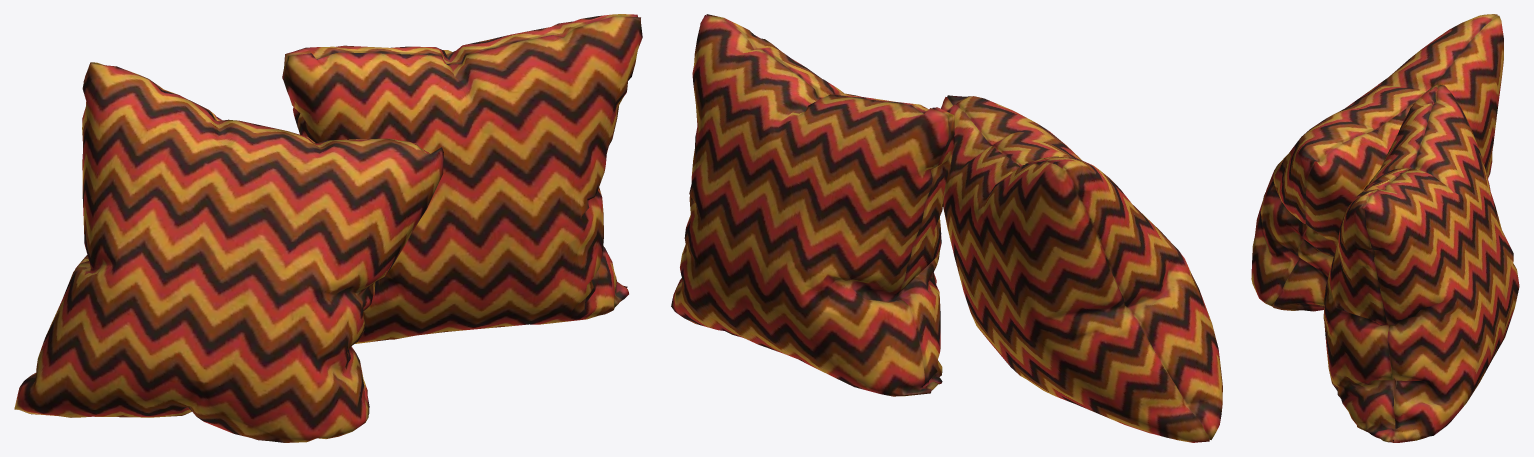
File: throw_pillows_01.glb
The picture shows the model from 3 angles, left to right: view 1: azimuth 30°, elevation 25°; view 2: azimuth 150°, elevation 25°; view 3: azimuth 270°, elevation 25°; orthographic projection. The views are drawn at different scales.
Visible parts, largest first — view 1: throw_pillows_01_pillow01, throw_pillows_01_pillow02; view 2: throw_pillows_01_pillow02, throw_pillows_01_pillow01; view 3: throw_pillows_01_pillow02, throw_pillows_01_pillow01.
Boxes of the visible parts, box(x1,y1,x2,y2) form: throw_pillows_01_pillow01: box(14, 62, 443, 442); throw_pillows_01_pillow02: box(282, 14, 642, 343); throw_pillows_01_pillow02: box(671, 14, 954, 396); throw_pillows_01_pillow01: box(941, 95, 1222, 442); throw_pillows_01_pillow02: box(1323, 84, 1519, 442); throw_pillows_01_pillow01: box(1251, 14, 1503, 311).
Size of the model in its own units: 0.94 by 0.4501 by 0.4524.
Materials: 1 (1 with a texture image).
